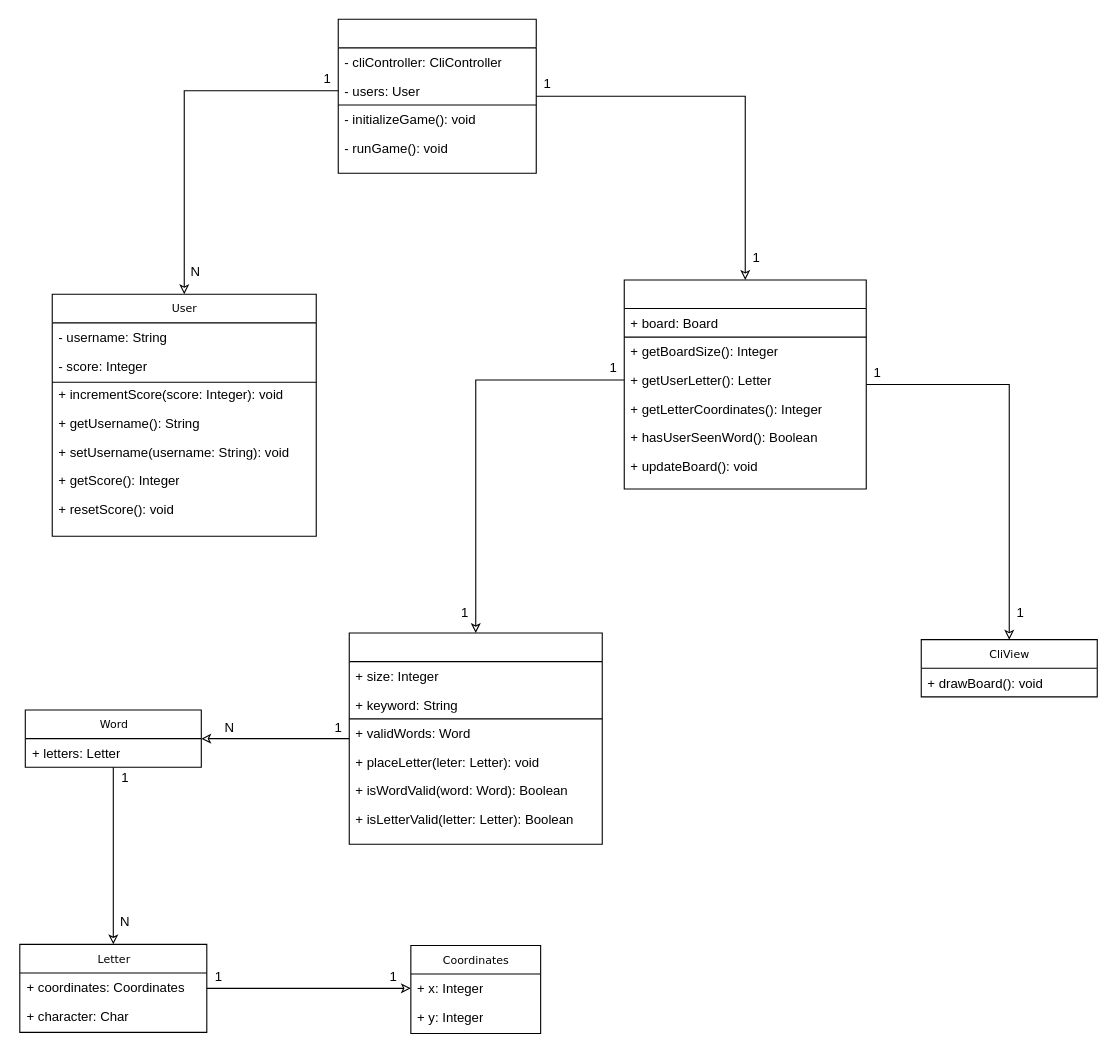
Some shapes in this 1117 by 1054 pixel diagram are drawn without their labels. Here are the shapes that lost their labels. From the top down, the box of each, then its label:
(337, 18, 536, 173): GameManager
(623, 279, 866, 489): CliController
(348, 632, 602, 844): Board
